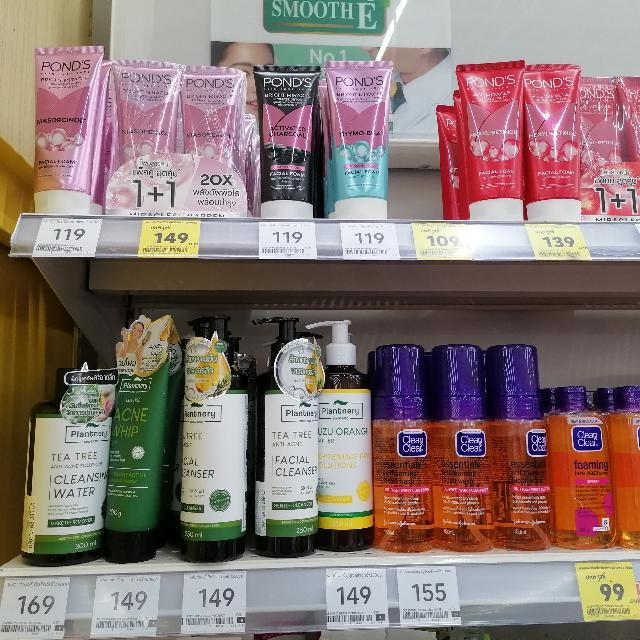Squeeze Tube: (102, 61, 189, 217), (35, 45, 107, 225), (454, 55, 532, 221), (326, 61, 402, 217), (165, 64, 243, 210), (256, 71, 322, 209), (521, 59, 579, 212)
